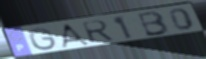0: (168, 7, 196, 32)
1: (113, 15, 135, 40)
A: (60, 23, 92, 49)
B: (137, 10, 171, 38)
G: (28, 27, 60, 52)
R: (80, 19, 116, 45)
